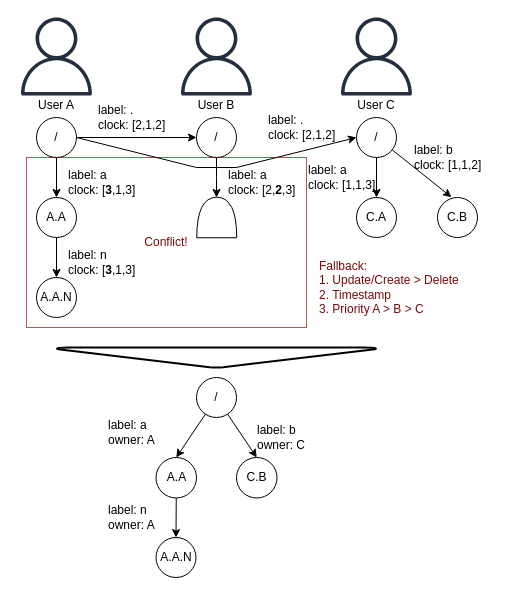
This 520x595 diagram has some shape labels left out. Each missing label, with the centre of its shape:
Delete: the point at 216,217
MERGE: the point at 216,357
